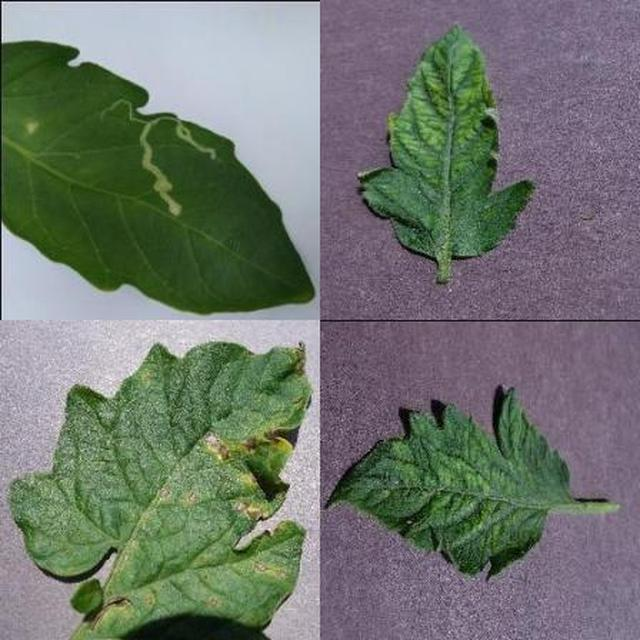Leaf Miner: (224, 200, 640, 640)
